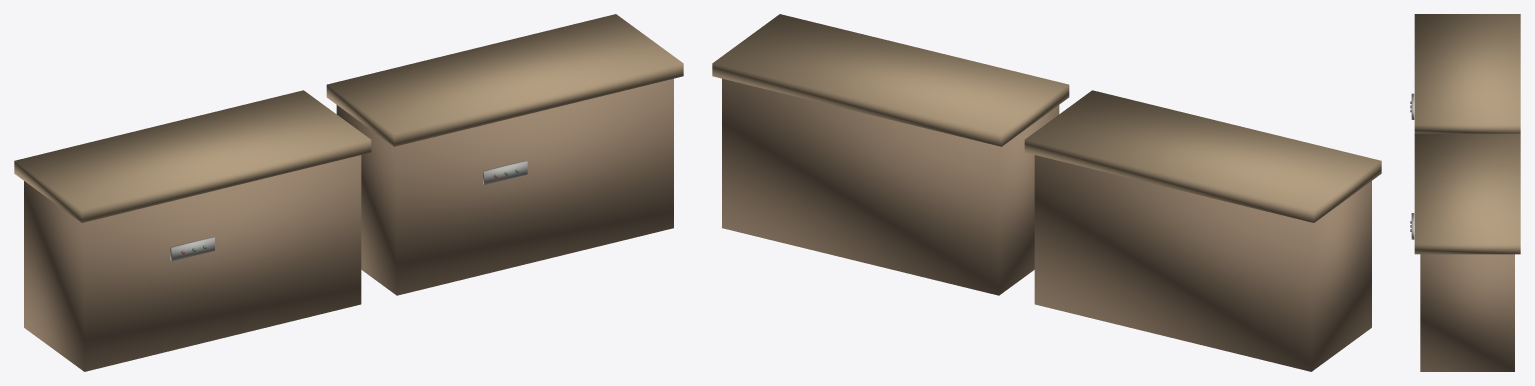
File: clinic_reception_counter__cluster.glb
3 views of the same model, side by side, from view 1: azimuth 30°, elevation 25°; view 2: azimuth 150°, elevation 25°; view 3: azimuth 270°, elevation 25° (orthographic). The views are drawn at different scales.
Visible parts, largest first — view 1: world; view 2: world; view 3: world.
Boxes of the visible parts, x1=… form: world: x1=14, y1=14, x2=683, y2=371; world: x1=712, y1=14, x2=1381, y2=371; world: x1=1410, y1=14, x2=1520, y2=371.
Size of the model in its own units: 3.91 by 1.03 by 0.791.
